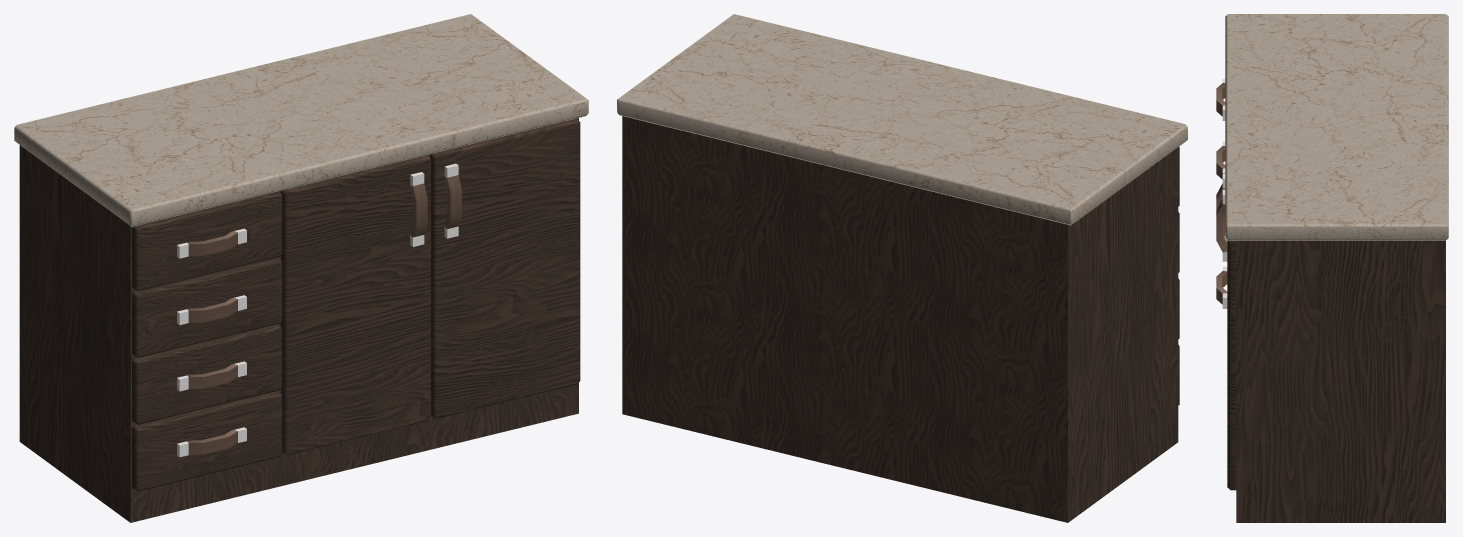
Rendered from kitchen_005.fbx.
3 views of the same model, side by side, from view 1: azimuth 30°, elevation 25°; view 2: azimuth 150°, elevation 25°; view 3: azimuth 270°, elevation 25° (orthographic). The views are drawn at different scales.
Parts seen in each view (by area): view 1: kitchen_005; view 2: kitchen_005; view 3: kitchen_005.
Part boxes in pixels (box(x1,y1,x2,y2)): kitchen_005: box(14, 14, 588, 522); kitchen_005: box(617, 14, 1187, 522); kitchen_005: box(1216, 14, 1448, 522).
Size of the model in its own units: 164 by 76.19 by 109.
